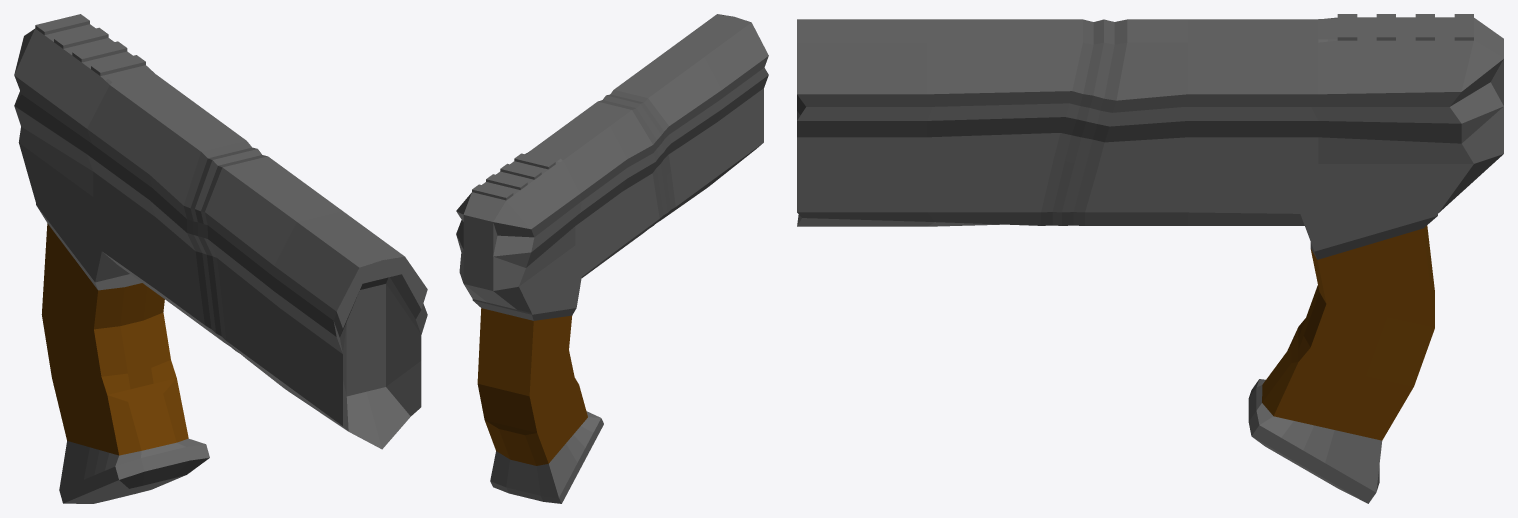
File: FuturePistol.fbx
3 views of the same model, side by side, from view 1: azimuth 30°, elevation 25°; view 2: azimuth 150°, elevation 25°; view 3: azimuth 270°, elevation 25° (orthographic). The views are drawn at different scales.
Parts seen in each view (by area): view 1: PistolModel; view 2: PistolModel; view 3: PistolModel.
Part boxes in pixels (x1,y1,x2,y2): PistolModel: (14, 14, 427, 503); PistolModel: (456, 14, 768, 503); PistolModel: (797, 14, 1503, 503).
Bounding box in the file's own units: 286 × 1202 × 1685.
